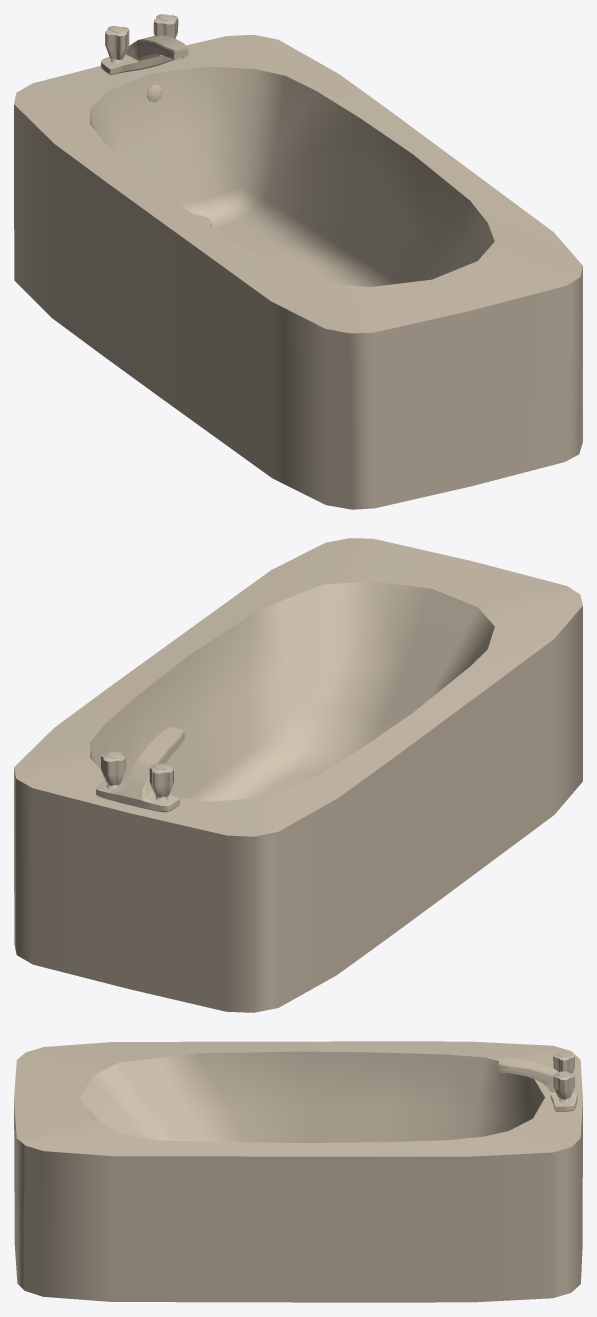
The model's file is bath_02_L.fbx.
3 views of the same model, one above another, from view 1: azimuth 30°, elevation 25°; view 2: azimuth 150°, elevation 25°; view 3: azimuth 270°, elevation 25° (orthographic). The views are drawn at different scales.
Visible parts, largest first — view 1: bath_02_L; view 2: bath_02_L; view 3: bath_02_L.
Boxes of the visible parts, <box> form: bath_02_L: <box>14,14,582,509</box>; bath_02_L: <box>14,538,582,1012</box>; bath_02_L: <box>14,1041,582,1302</box>.
Size of the model in its own units: 16.3 by 12.16 by 33.97.
